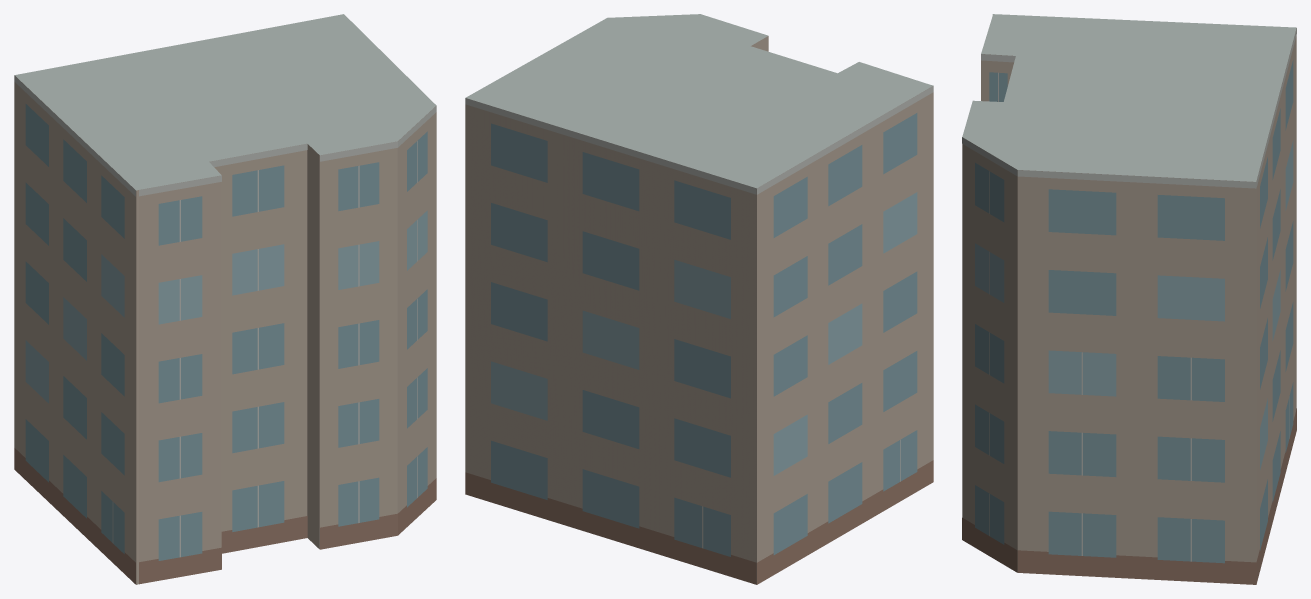
File: survey-upis-32873780.glb
The picture shows the model from 3 angles, left to right: view 1: azimuth 30°, elevation 25°; view 2: azimuth 150°, elevation 25°; view 3: azimuth 270°, elevation 25°; orthographic projection. The views are drawn at different scales.
Parts seen in each view (by area): view 1: survey-upis-32873780.tmp; view 2: survey-upis-32873780.tmp; view 3: survey-upis-32873780.tmp.
Part boxes in pixels (left/top/right/bottom): survey-upis-32873780.tmp: left=14, top=14, right=436, bottom=584; survey-upis-32873780.tmp: left=465, top=14, right=933, bottom=584; survey-upis-32873780.tmp: left=962, top=14, right=1296, bottom=584.
Size of the model in its own units: 13.28 by 14.85 by 11.18.
